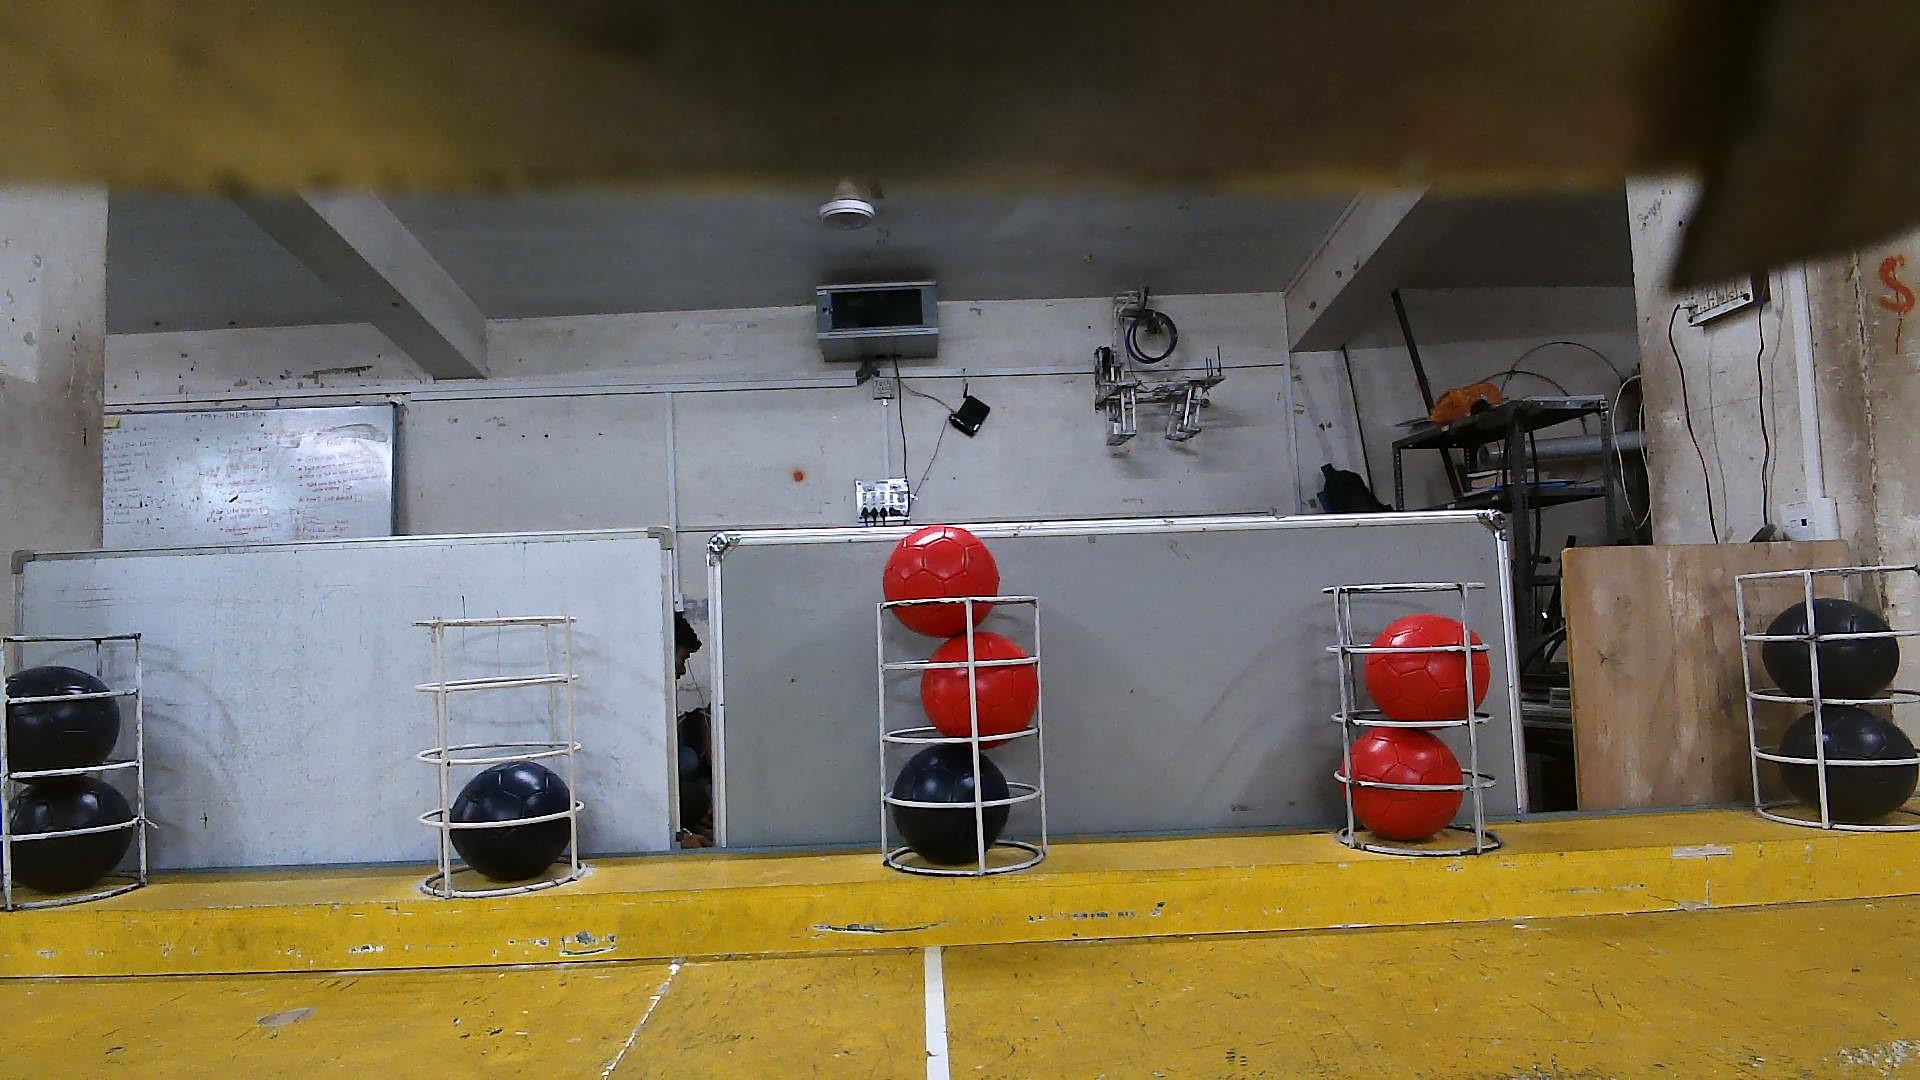dhoka: (8, 775, 133, 895), (1782, 705, 1919, 815), (450, 761, 570, 881), (893, 744, 1007, 862), (1764, 600, 1902, 698), (1, 667, 119, 770)
laale: (881, 525, 1001, 637), (1346, 729, 1461, 844), (1369, 615, 1491, 720), (920, 633, 1038, 737)
